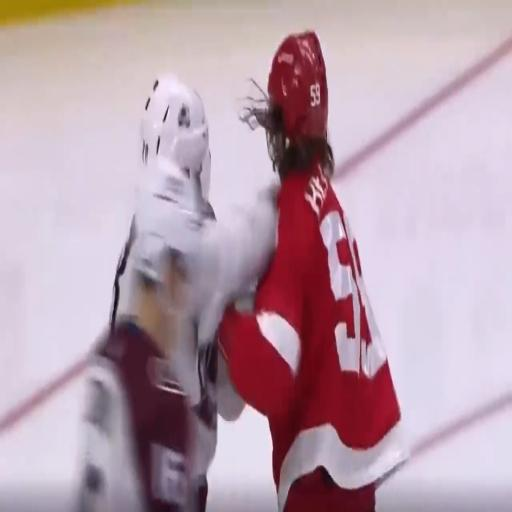violencia: (75, 22, 412, 512)
